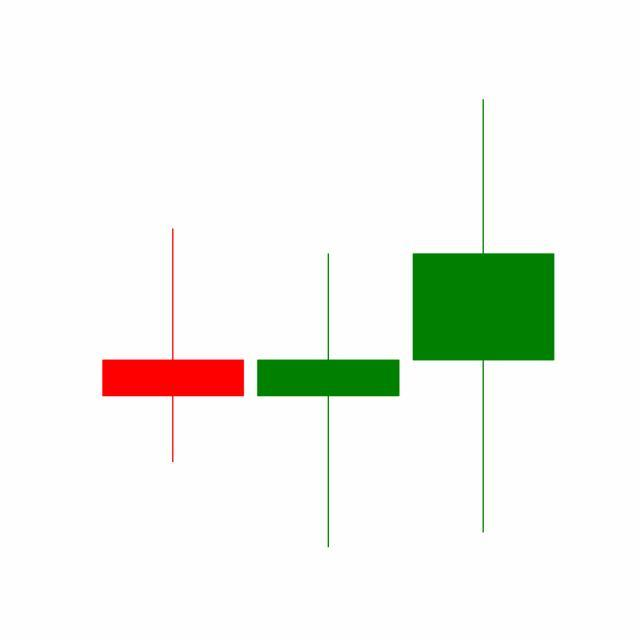Spinning Top: (250, 250, 407, 551)
